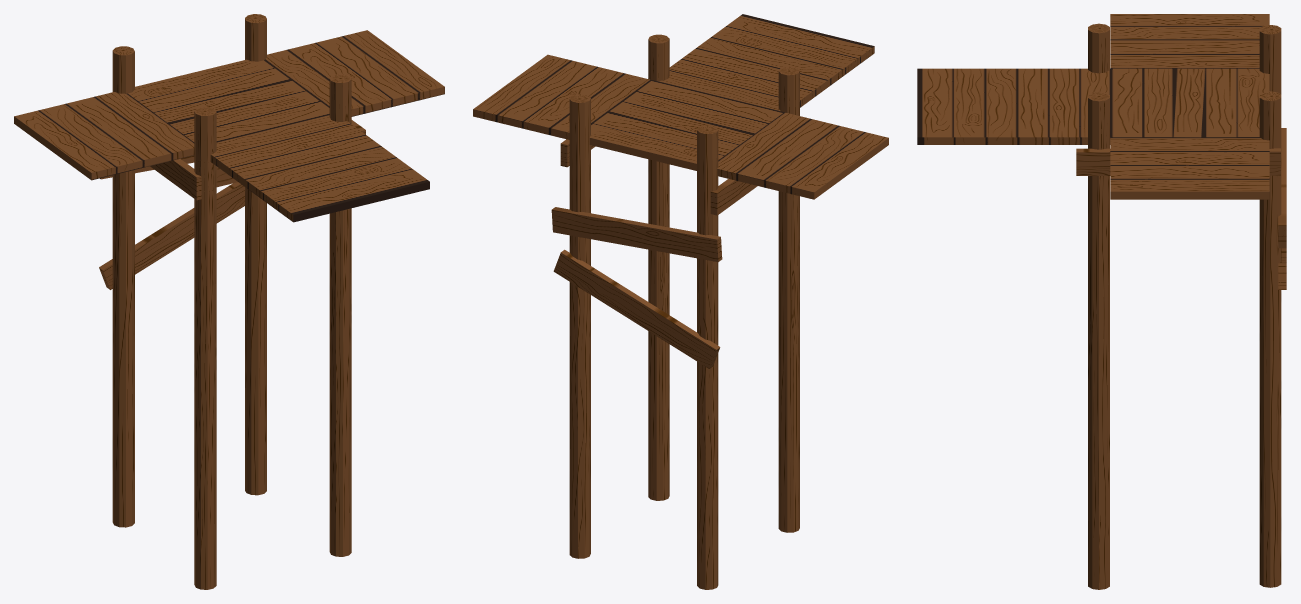
The model's file is Dock_Tshape.fbx.
The picture shows the model from 3 angles, left to right: view 1: azimuth 30°, elevation 25°; view 2: azimuth 150°, elevation 25°; view 3: azimuth 270°, elevation 25°; orthographic projection. The views are drawn at different scales.
Visible parts, largest first — view 1: Planks, Trestle02, DockPost, DockPost1, Plank, Plank3; view 2: Planks, Trestle02, DockPost1, DockPost, Plank, Plank2, Plank3; view 3: Planks, Trestle02, DockPost1, DockPost, Plank4, Plank2.
Boxes of the visible parts, x1,y1,x2,y2 form: Planks: (14, 30, 444, 222); Trestle02: (194, 74, 351, 589); DockPost: (112, 46, 134, 527); DockPost1: (245, 14, 266, 495); Plank: (99, 182, 244, 289); Plank3: (150, 158, 201, 200); Planks: (473, 14, 888, 199); Trestle02: (648, 34, 799, 532); DockPost1: (569, 94, 590, 558); DockPost: (697, 125, 718, 589); Plank: (553, 249, 720, 368); Plank2: (551, 207, 722, 262); Plank3: (710, 179, 757, 215); Planks: (917, 14, 1269, 199); Trestle02: (1088, 23, 1109, 589); DockPost1: (1259, 91, 1281, 587); DockPost: (1259, 25, 1281, 94); Plank4: (1076, 148, 1280, 175); Plank2: (1278, 128, 1286, 248).
Size of the model in its own units: 22.23 by 28.49 by 19.52.
2 materials, 2 textured.
